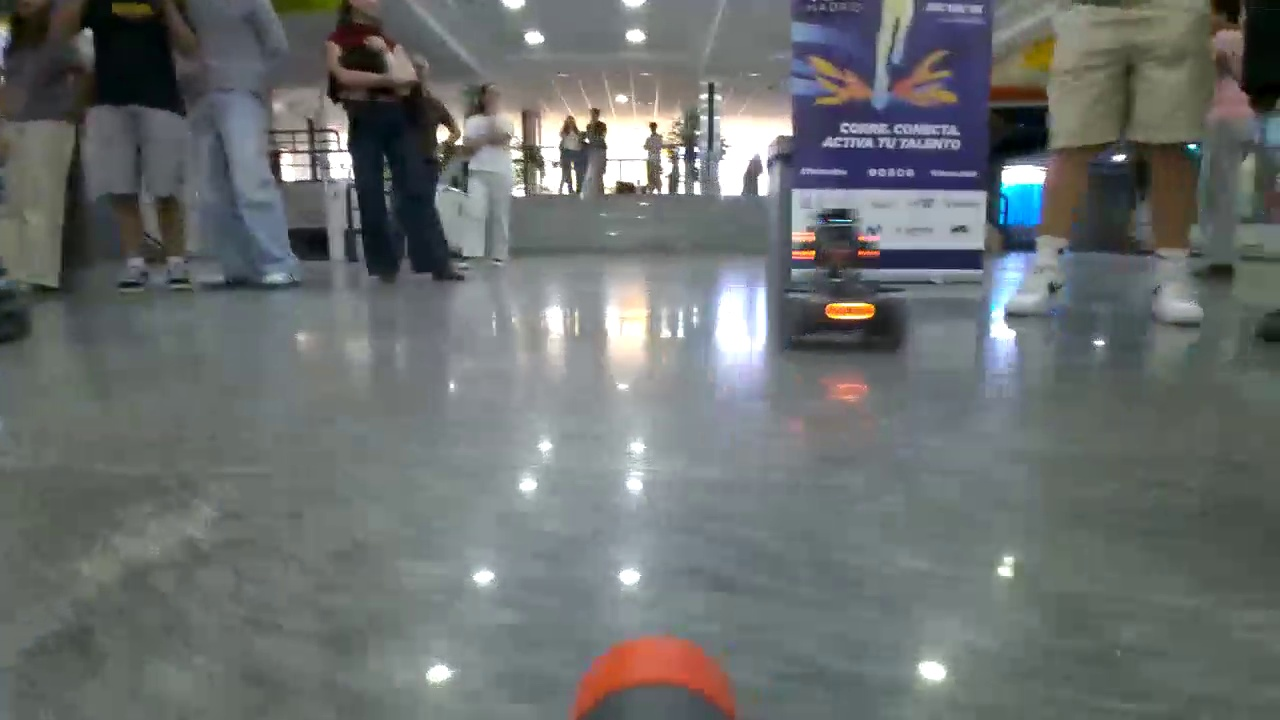robot: (790, 205, 902, 345)
